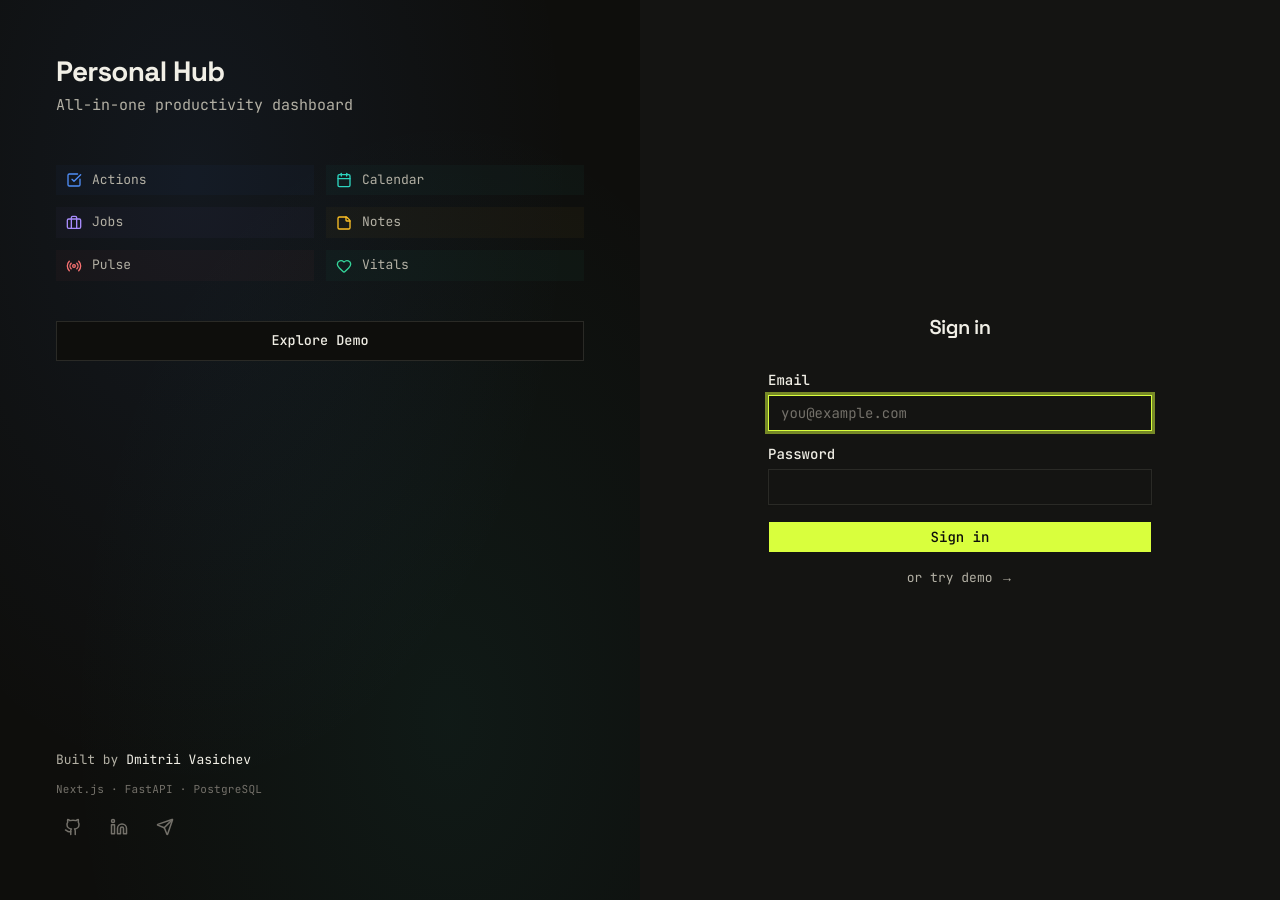
Scenario: LoginPage › shows error on failed demo login
Click the button with test id "demo-login-btn": (320, 341) [56,321,584,361]
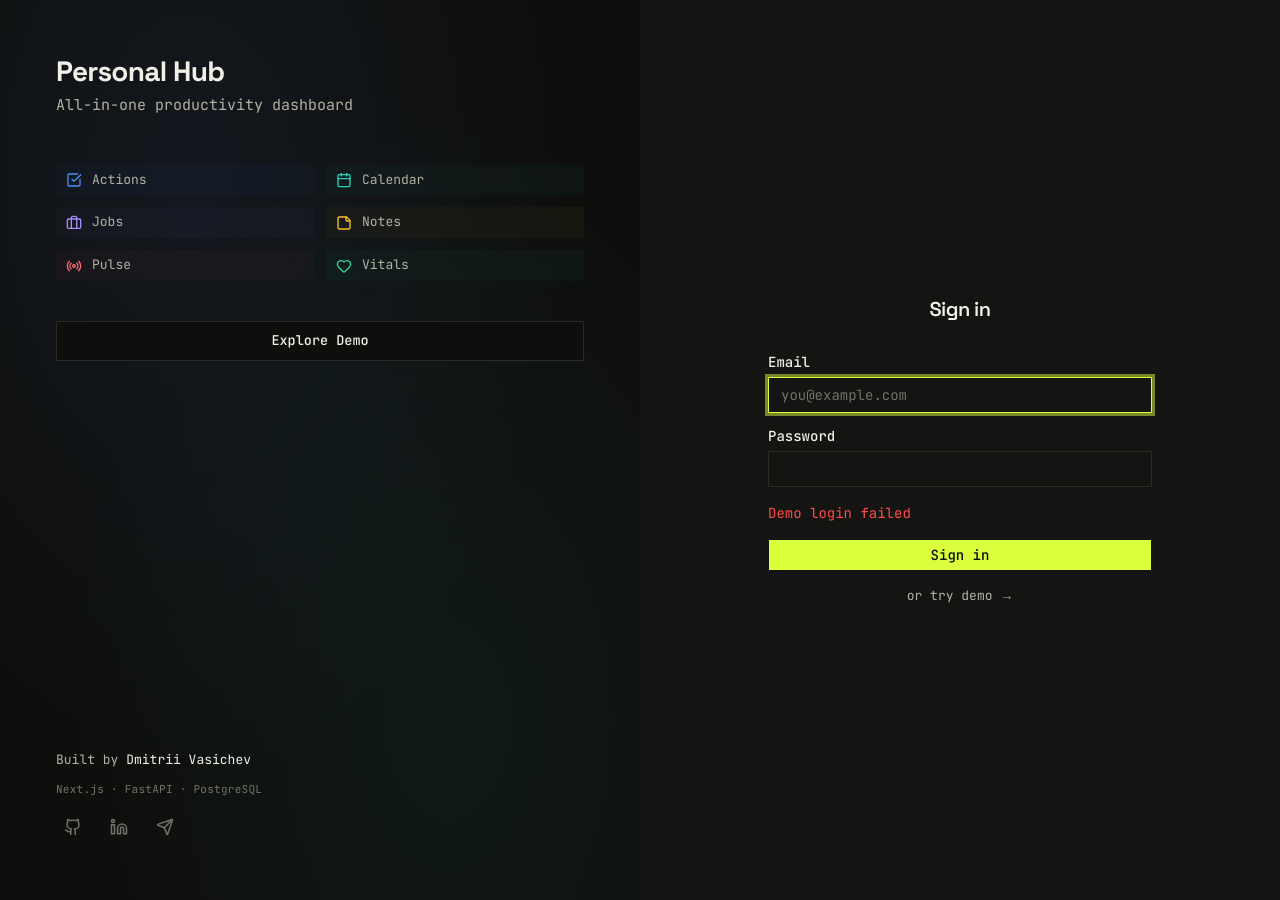
Check: the text "Demo login failed" is shown, box [768,504,911,522]
